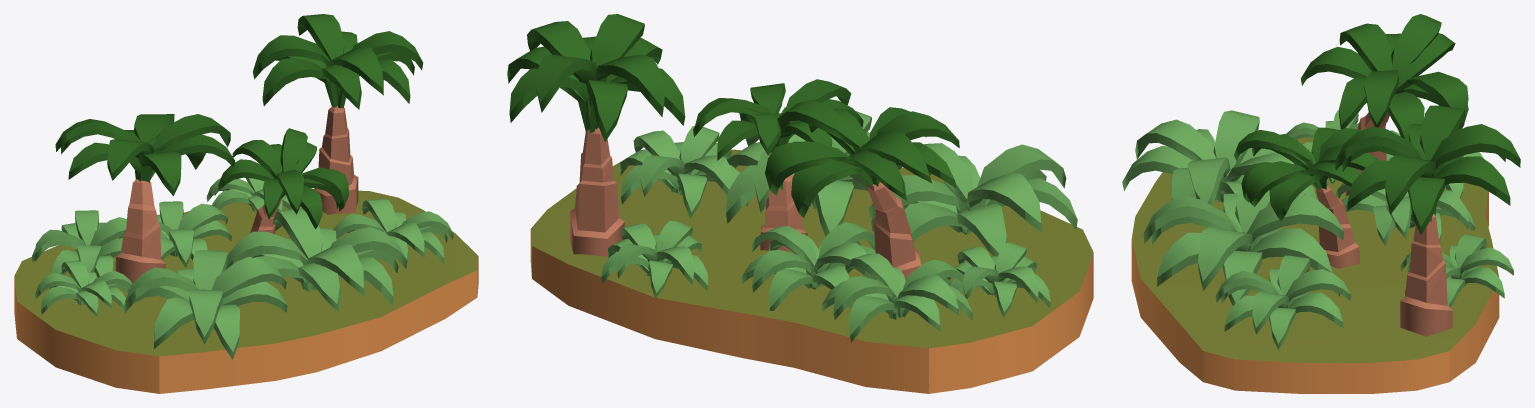
The model's file is Wall v3.fbx.
3 renders of one model, left to right at view 1: azimuth 30°, elevation 25°; view 2: azimuth 150°, elevation 25°; view 3: azimuth 270°, elevation 25°, orthographic. The views are drawn at different scales.
Visible parts, largest first — view 1: Wall v3; view 2: Wall v3; view 3: Wall v3.
Boxes of the visible parts, bbox=[...] form: Wall v3: bbox=[14, 14, 478, 393]; Wall v3: bbox=[507, 14, 1093, 393]; Wall v3: bbox=[1122, 14, 1520, 393].
Bounding box in the file's own units: 10.95 × 5.22 × 7.98.
